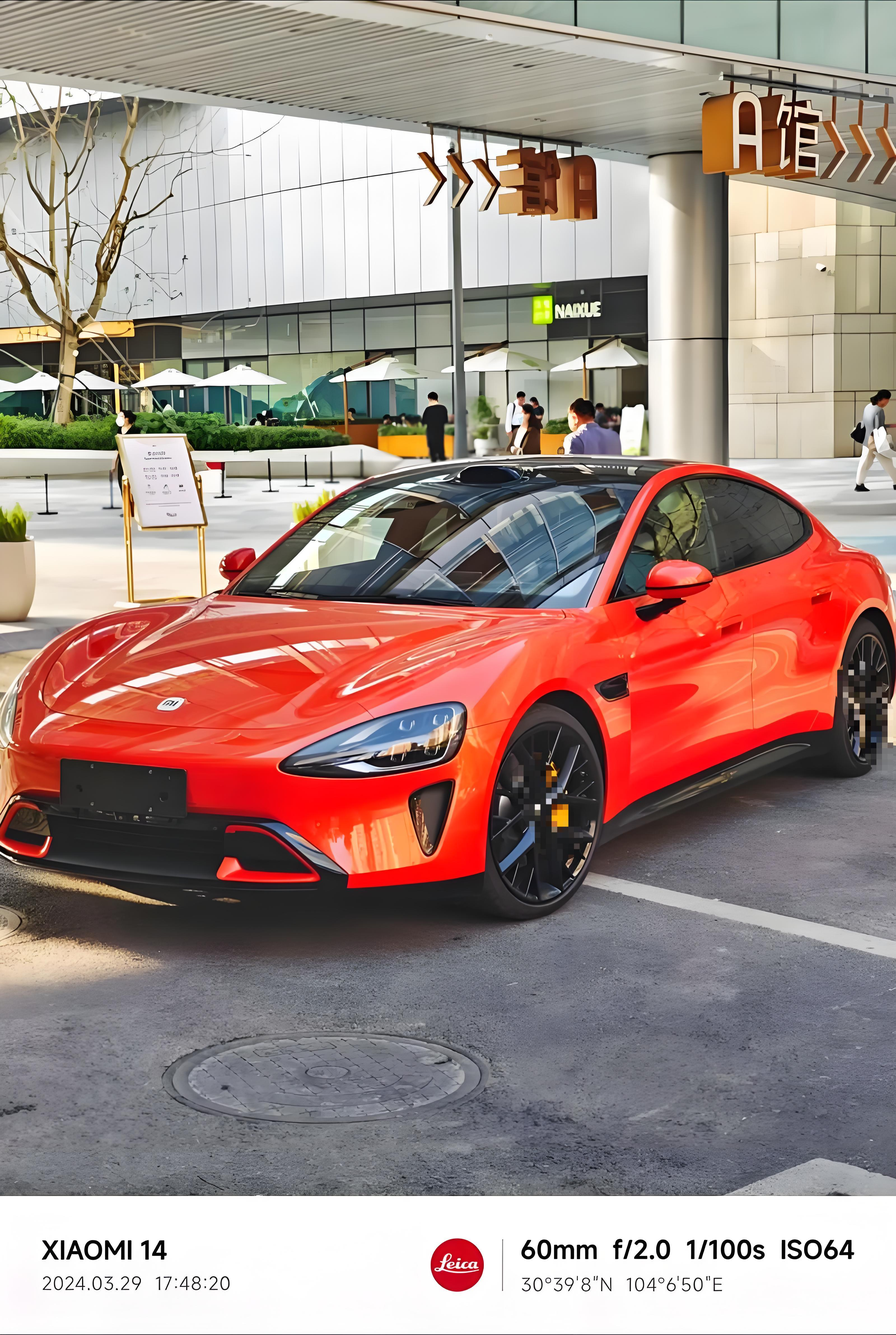XIAOMI: (157, 697, 184, 711)
